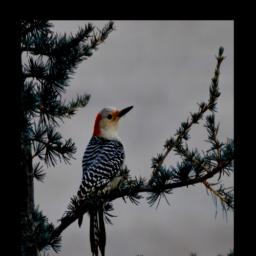Woodpecker: (77, 105, 133, 256)
